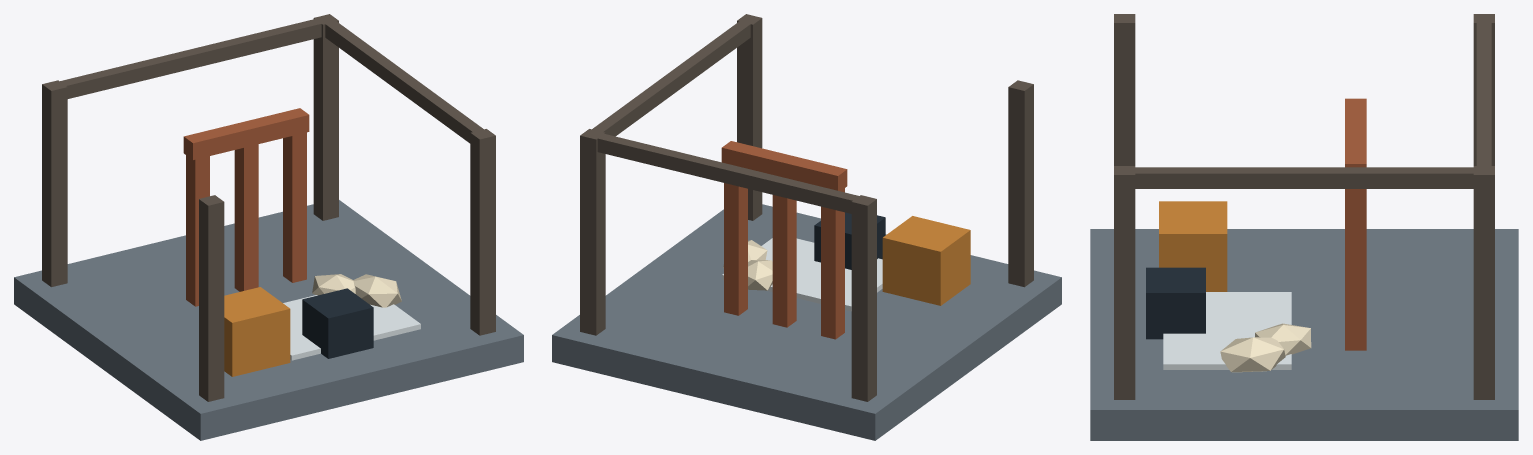
File: construction_site.glb
3 views of the same model, side by side, from view 1: azimuth 30°, elevation 25°; view 2: azimuth 150°, elevation 25°; view 3: azimuth 270°, elevation 25° (orthographic). The views are drawn at different scales.
Parts seen in each view (by area): view 1: construction_site; view 2: construction_site; view 3: construction_site.
Boxes of the visible parts, bbox=[...] form: construction_site: bbox=[14, 14, 523, 440]; construction_site: bbox=[552, 14, 1061, 440]; construction_site: bbox=[1090, 14, 1518, 440].
Bounding box in the file's own units: 1 × 0.66 × 1.
1 material, 1 textured.
